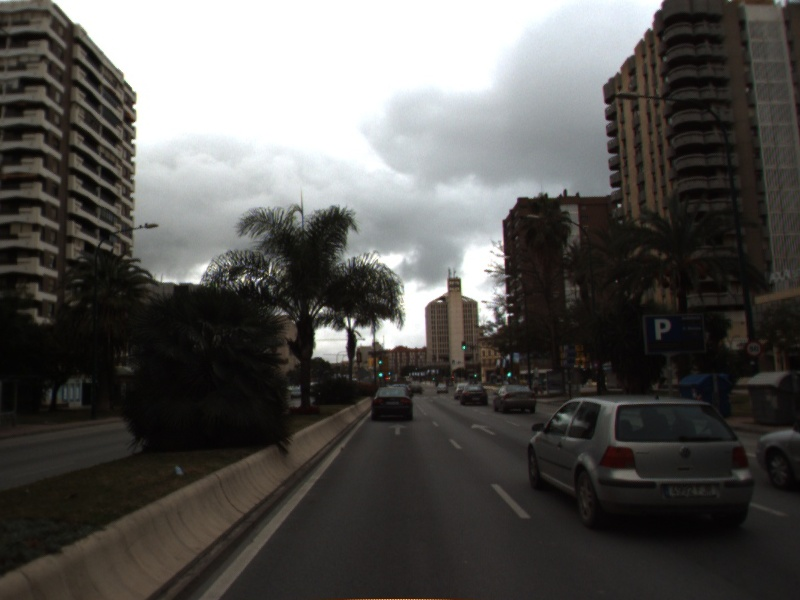STRAIGHT: (469, 421, 498, 437), (386, 421, 410, 437)
